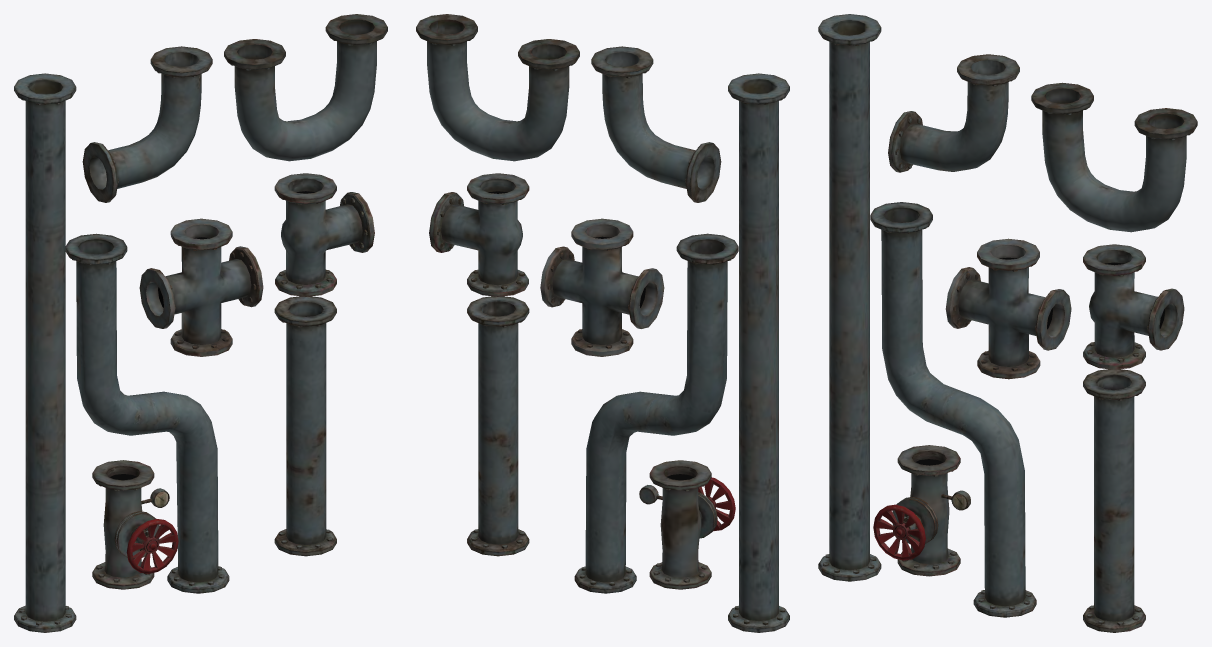
The model's file is modular_industrial_pipes_01_lod1.glb.
3 renders of one model, left to right at view 1: azimuth 30°, elevation 25°; view 2: azimuth 150°, elevation 25°; view 3: azimuth 330°, elevation 25°, orthographic.
Parts seen in each view (by area): view 1: modular_industrial_pipes_01_pipe02, modular_industrial_pipes_01_pipe03, modular_industrial_pipes_01_pipe05, modular_industrial_pipes_01_pipe01, modular_industrial_pipes_01_pipe07, modular_industrial_pipes_01_pipe04, modular_industrial_pipes_01_pipe06, modular_industrial_pipes_01_pipe08; view 2: modular_industrial_pipes_01_pipe02, modular_industrial_pipes_01_pipe03, modular_industrial_pipes_01_pipe05, modular_industrial_pipes_01_pipe01, modular_industrial_pipes_01_pipe07, modular_industrial_pipes_01_pipe04, modular_industrial_pipes_01_pipe06, modular_industrial_pipes_01_pipe08; view 3: modular_industrial_pipes_01_pipe02, modular_industrial_pipes_01_pipe03, modular_industrial_pipes_01_pipe05, modular_industrial_pipes_01_pipe01, modular_industrial_pipes_01_pipe07, modular_industrial_pipes_01_pipe06, modular_industrial_pipes_01_pipe04, modular_industrial_pipes_01_pipe08.
Boxes of the visible parts, x1,y1,x2,y2 form: modular_industrial_pipes_01_pipe02: (14,73,76,632); modular_industrial_pipes_01_pipe03: (65,233,229,593); modular_industrial_pipes_01_pipe05: (224,14,387,161); modular_industrial_pipes_01_pipe01: (274,296,336,556); modular_industrial_pipes_01_pipe07: (139,218,263,356); modular_industrial_pipes_01_pipe04: (82,46,212,202); modular_industrial_pipes_01_pipe06: (274,173,374,296); modular_industrial_pipes_01_pipe08: (92,460,178,589); modular_industrial_pipes_01_pipe02: (728,73,789,632); modular_industrial_pipes_01_pipe03: (574,233,738,593); modular_industrial_pipes_01_pipe05: (416,14,579,161); modular_industrial_pipes_01_pipe01: (467,296,529,556); modular_industrial_pipes_01_pipe07: (540,218,664,356); modular_industrial_pipes_01_pipe04: (591,46,721,202); modular_industrial_pipes_01_pipe06: (429,173,529,296); modular_industrial_pipes_01_pipe08: (639,460,735,589); modular_industrial_pipes_01_pipe02: (818,14,881,581); modular_industrial_pipes_01_pipe03: (870,202,1036,617); modular_industrial_pipes_01_pipe05: (1031,82,1197,232); modular_industrial_pipes_01_pipe01: (1083,369,1145,632); modular_industrial_pipes_01_pipe07: (945,238,1071,379); modular_industrial_pipes_01_pipe06: (1083,244,1184,369); modular_industrial_pipes_01_pipe04: (888,54,1019,172); modular_industrial_pipes_01_pipe08: (873,445,970,576).
Size of the model in its own units: 1.4 by 1.95 by 0.3076.
2 materials, 2 textured.
